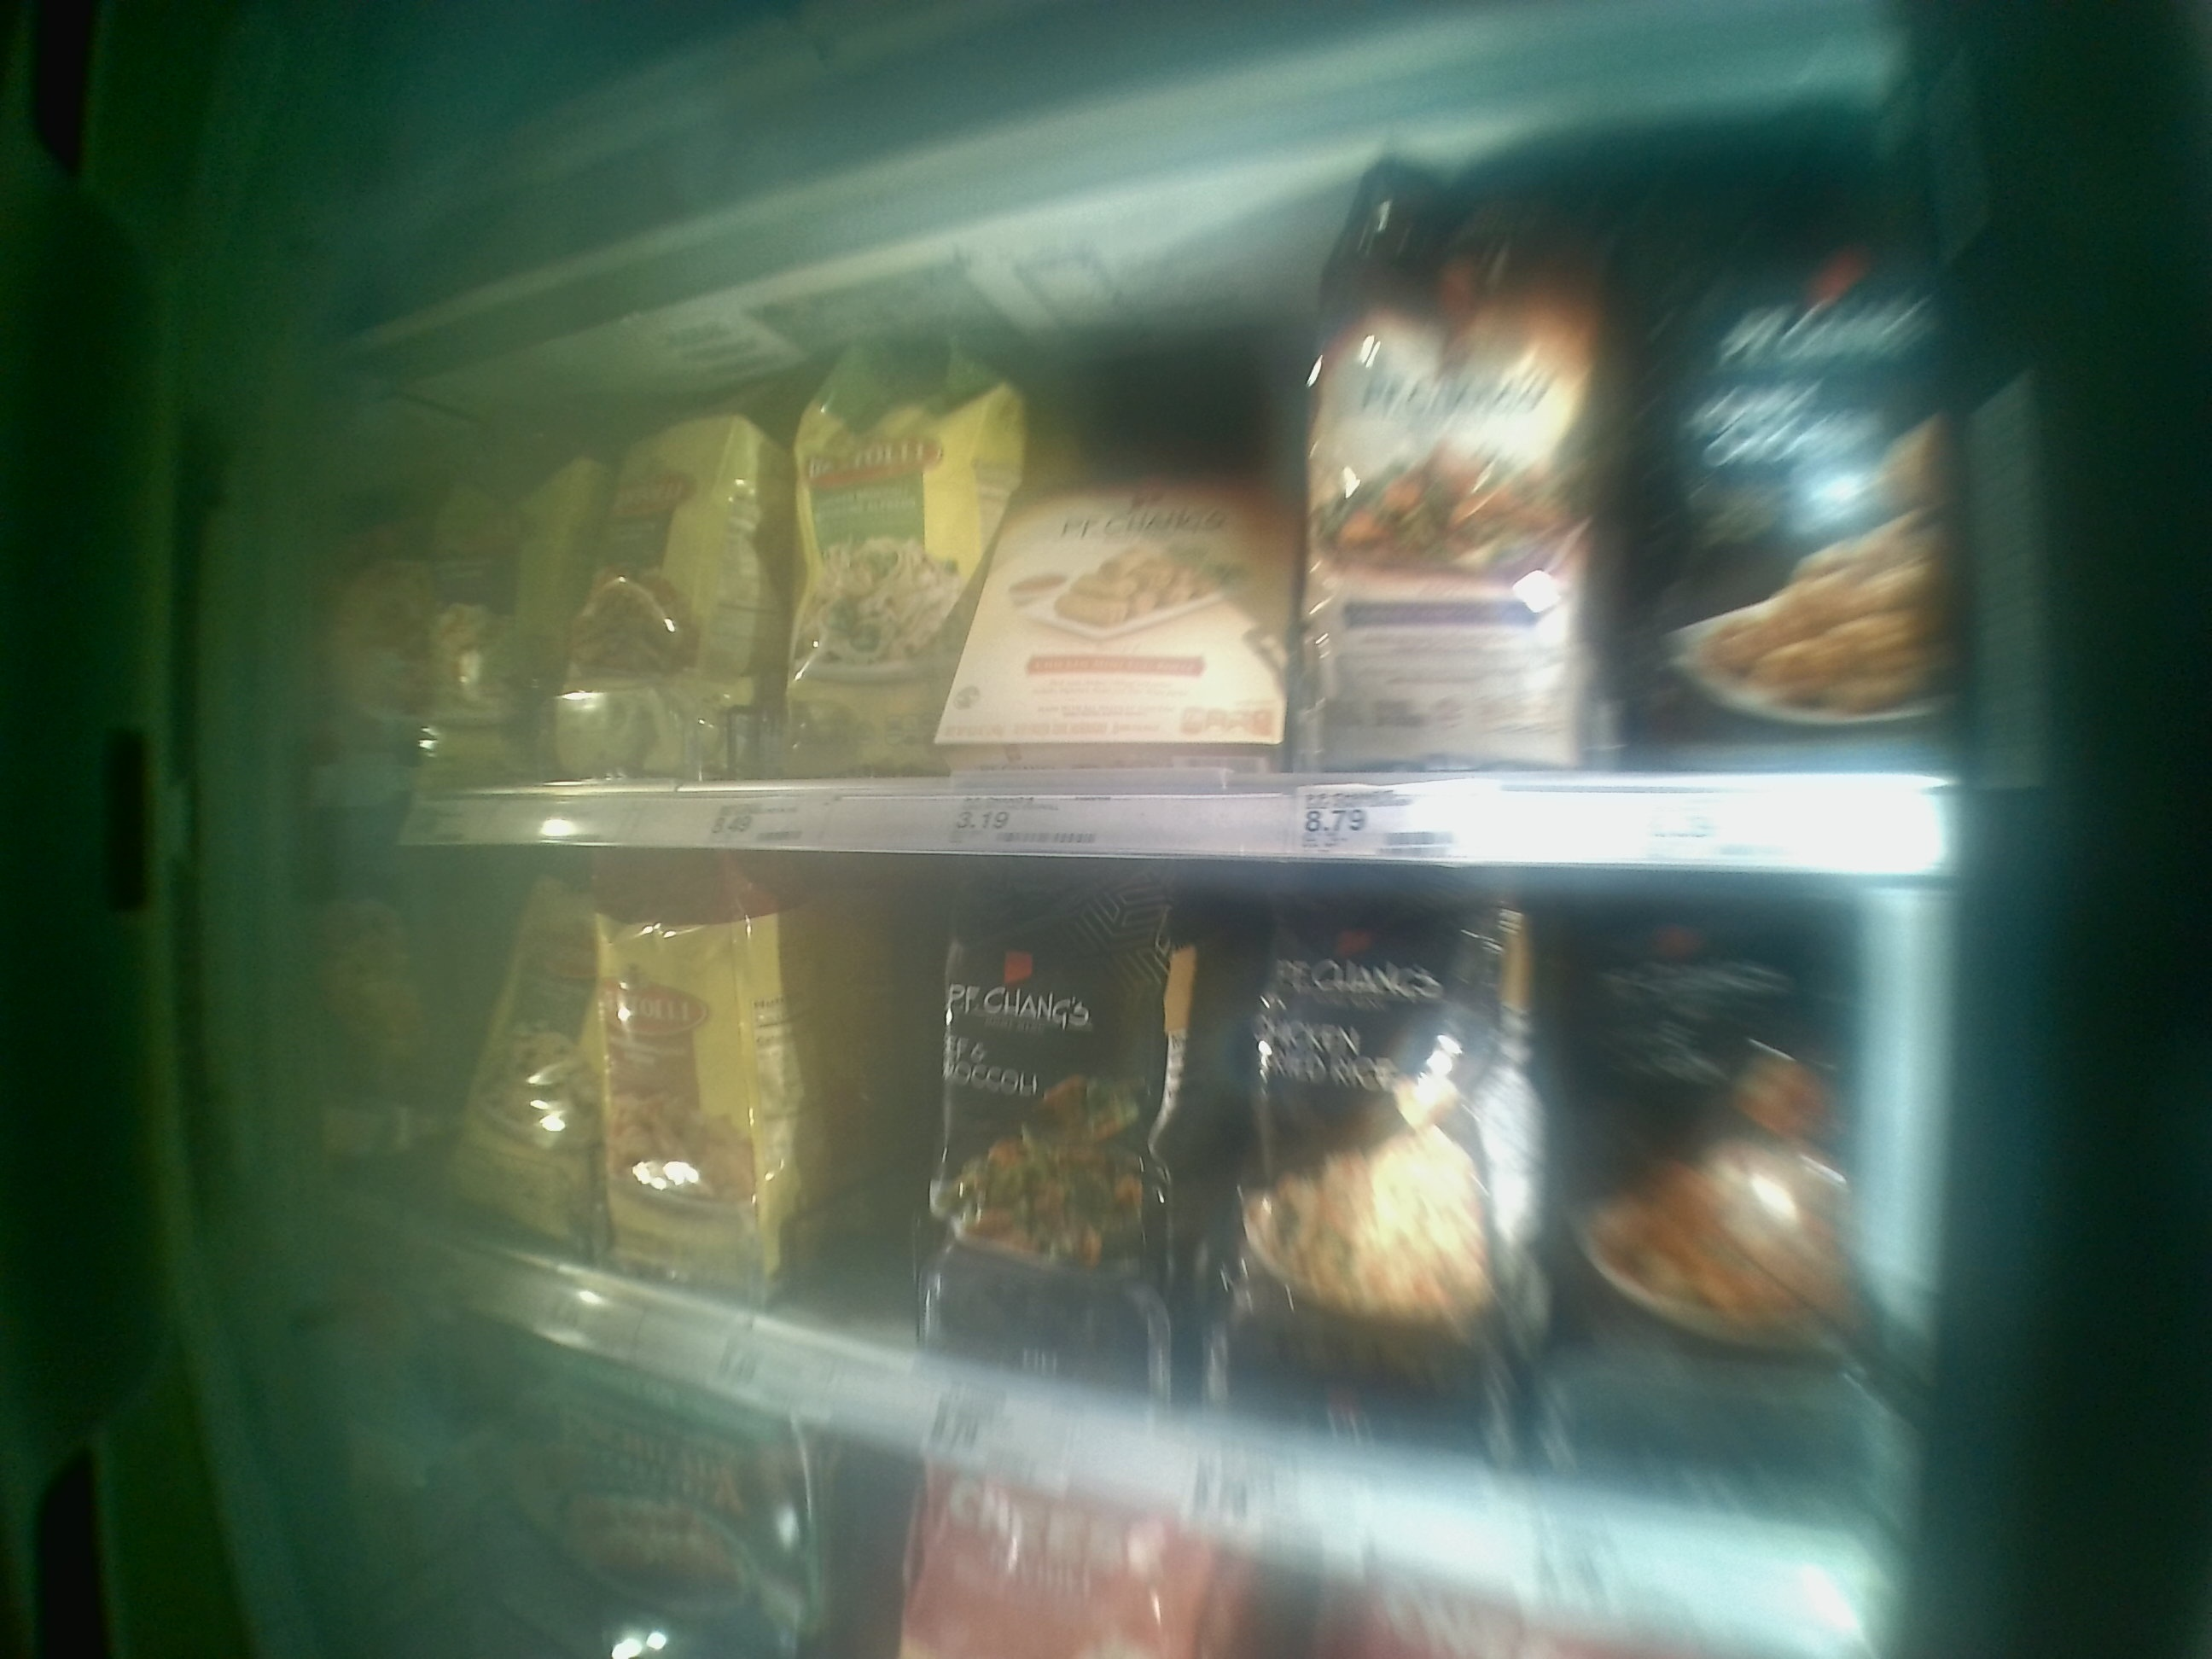shelf: (413, 817, 1904, 1610)
